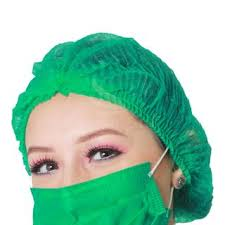with_mask_and_cap: (13, 36, 197, 225)
